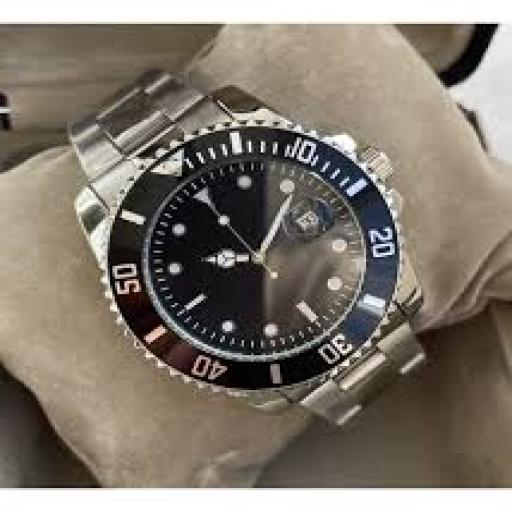KolSaati: (47, 47, 447, 442)
